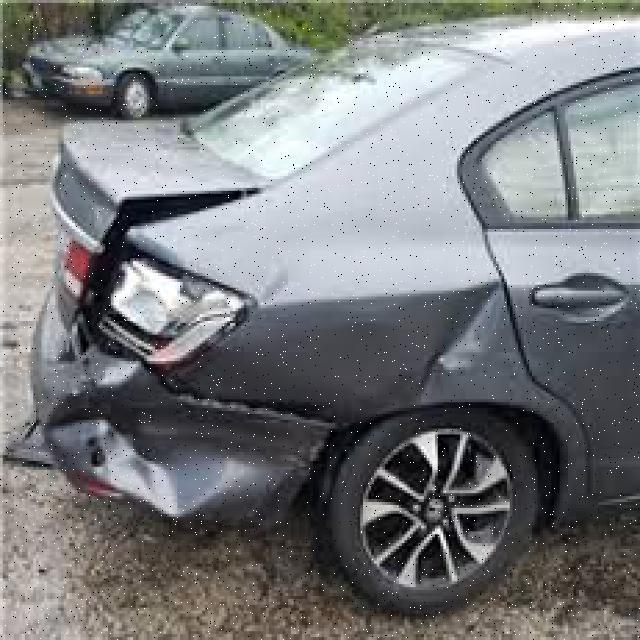quaterpanel-dent: (294, 270, 530, 473)
rear-bumper-dent: (2, 352, 354, 555)
